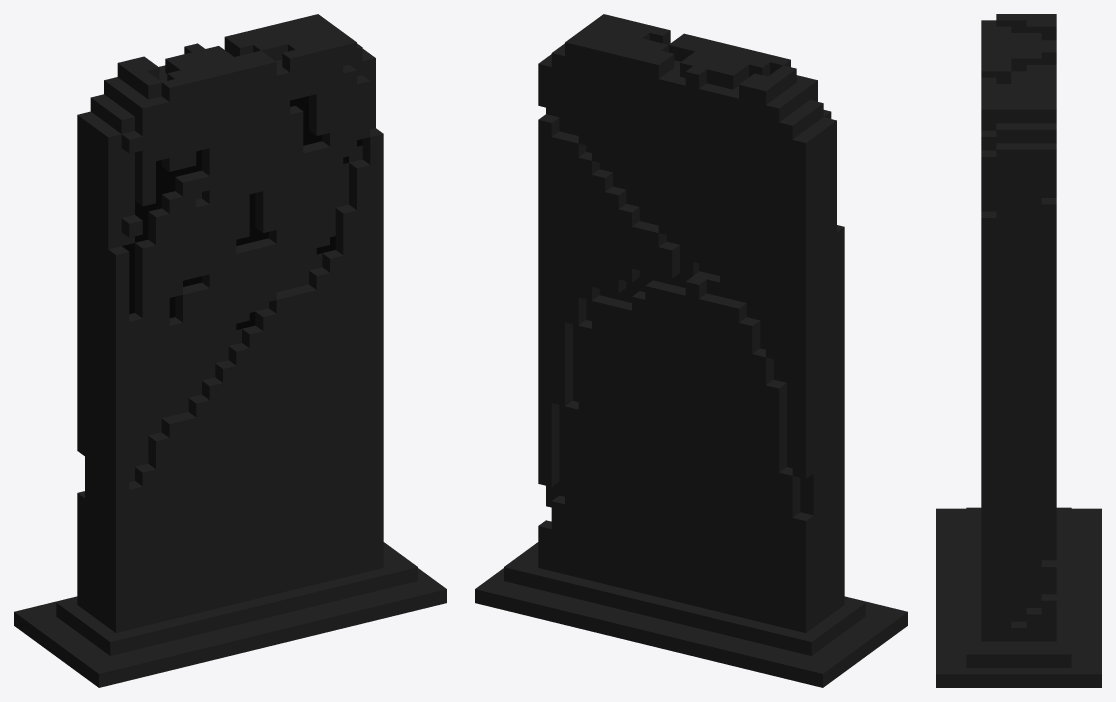
The model's file is Tombstones-1-Tombstone1.obj.
3 views of the same model, side by side, from view 1: azimuth 30°, elevation 25°; view 2: azimuth 150°, elevation 25°; view 3: azimuth 270°, elevation 25° (orthographic). The views are drawn at different scales.
Visible parts, largest first — view 1: Tombstone1; view 2: Tombstone1; view 3: Tombstone1.
Part boxes in pixels (x1,y1,x2,y2): Tombstone1: [14, 14, 446, 687]; Tombstone1: [475, 14, 907, 687]; Tombstone1: [936, 14, 1101, 687].
Size of the model in its own units: 2.6 by 4 by 1.1.
1 material, 1 textured.
